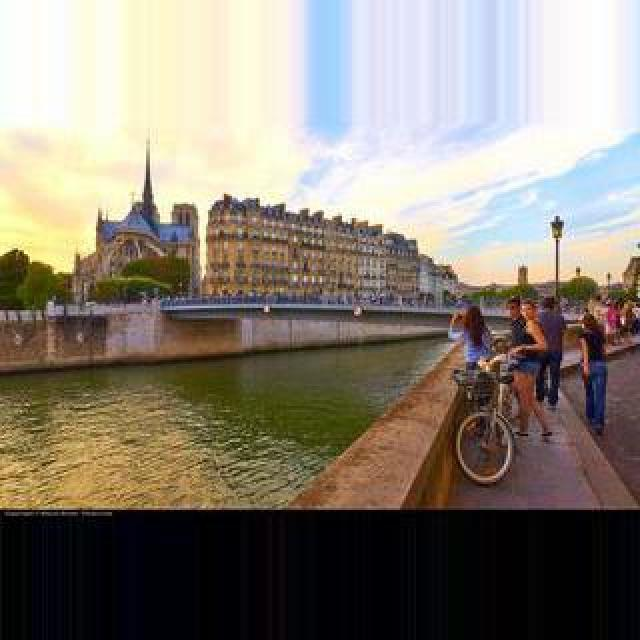MC-Bike: (502, 298, 548, 442), (576, 304, 610, 434), (448, 302, 492, 402), (534, 298, 566, 406)
Person: (450, 362, 554, 486)
